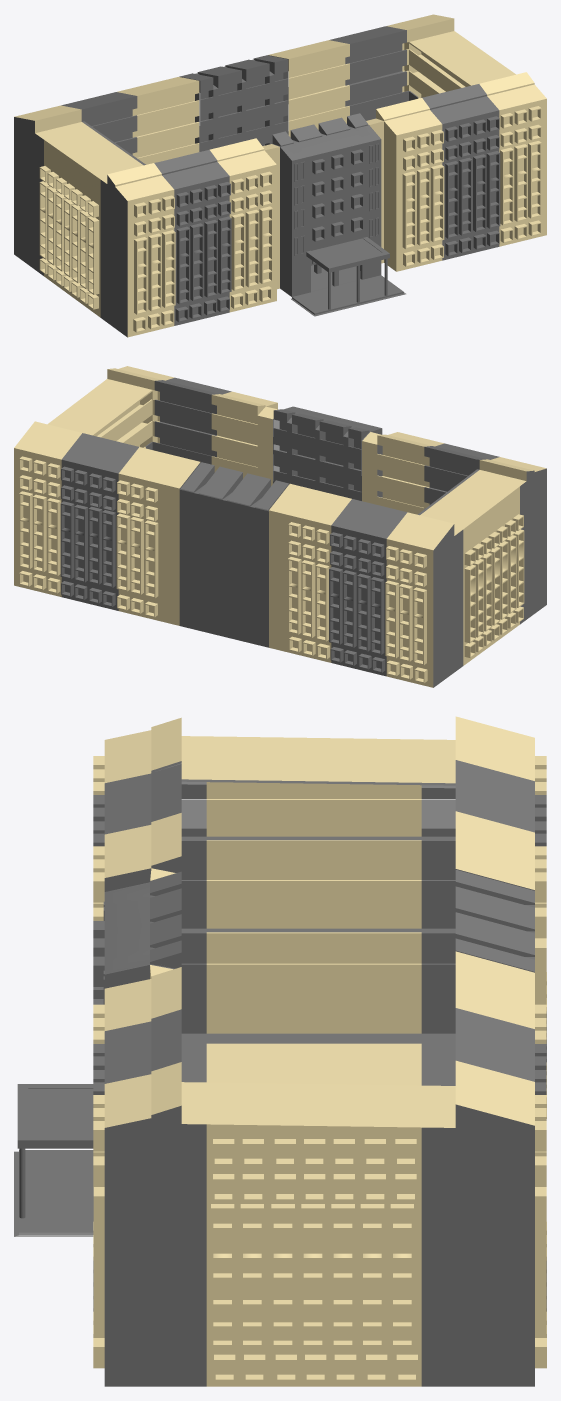
3 views of the same model, one above another, from view 1: azimuth 30°, elevation 25°; view 2: azimuth 150°, elevation 25°; view 3: azimuth 270°, elevation 25° (orthographic). The views are drawn at different scales.
Parts seen in each view (by area): view 1: polySurface1, pCube1, polySurface145, polySurface97, pCube33, pCube5, polySurface139, pCube38, pCube7, pCube11, pCube9, pCube4 (+19 smaller); view 2: polySurface1, polySurface97, pCube54, pCube53, pCube48, pCube44, pCube60, pCube43, pCube45, pCube59, polySurface139, polySurface141 (+18 smaller); view 3: polySurface1, pCube1, polySurface89, polySurface138, polySurface96, polySurface34, pCube52, pCube2, polySurface32, polySurface33, polySurface35, polySurface36 (+3 smaller).
Part boxes in pixels (left/top/right/bottom): polySurface1: left=14, top=14, right=546, bottom=337; pCube1: left=306, top=237, right=389, bottom=272; polySurface145: left=87, top=216, right=99, bottom=294; polySurface97: left=39, top=166, right=98, bottom=217; pCube33: left=245, top=209, right=259, bottom=287; pCube5: left=458, top=157, right=472, bottom=235; polySurface139: left=39, top=258, right=98, bottom=309; pCube38: left=176, top=226, right=190, bottom=304; pCube7: left=486, top=151, right=500, bottom=228; pCube11: left=430, top=164, right=444, bottom=242; pCube9: left=402, top=171, right=416, bottom=249; pCube4: left=500, top=147, right=513, bottom=225; polySurface1: left=14, top=366, right=546, bottom=687; polySurface97: left=464, top=514, right=523, bottom=565; pCube54: left=116, top=513, right=130, bottom=591; pCube53: left=32, top=494, right=46, bottom=572; pCube48: left=370, top=577, right=384, bottom=654; pCube44: left=287, top=557, right=301, bottom=634; pCube60: left=60, top=501, right=74, bottom=579; pCube43: left=301, top=560, right=315, bottom=637; pCube45: left=342, top=570, right=356, bottom=648; pCube59: left=144, top=520, right=158, bottom=598; polySurface139: left=464, top=606, right=523, bottom=657; polySurface141: left=464, top=564, right=475, bottom=643; polySurface1: left=14, top=716, right=534, bottom=1386; pCube1: left=17, top=1084, right=93, bottom=1148; polySurface89: left=214, top=1354, right=417, bottom=1381; polySurface138: left=213, top=1139, right=416, bottom=1165; polySurface96: left=213, top=1174, right=416, bottom=1200; polySurface34: left=360, top=1204, right=384, bottom=1346; pCube52: left=535, top=1187, right=546, bottom=1335; pCube2: left=93, top=1187, right=104, bottom=1335; polySurface32: left=271, top=1204, right=294, bottom=1346; polySurface33: left=390, top=1204, right=413, bottom=1346; polySurface35: left=331, top=1204, right=354, bottom=1346; polySurface36: left=240, top=1204, right=263, bottom=1346.
Size of the model in its own units: 6.75 by 2.25 by 3.82.
